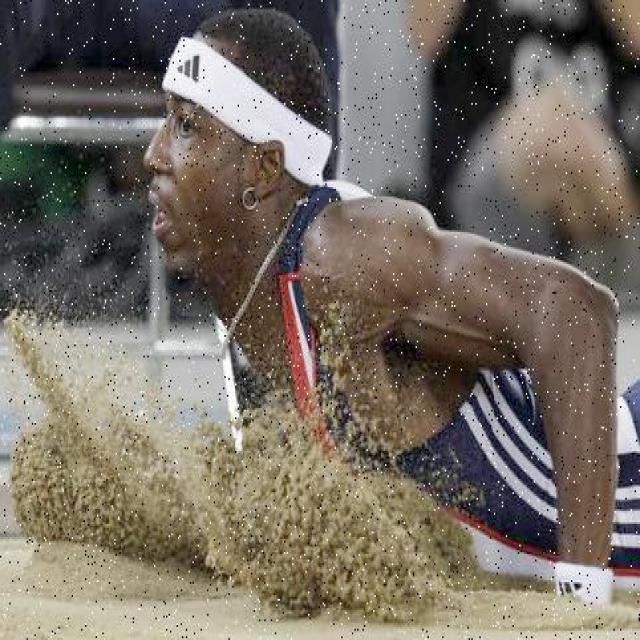fall: (151, 34, 639, 614)
